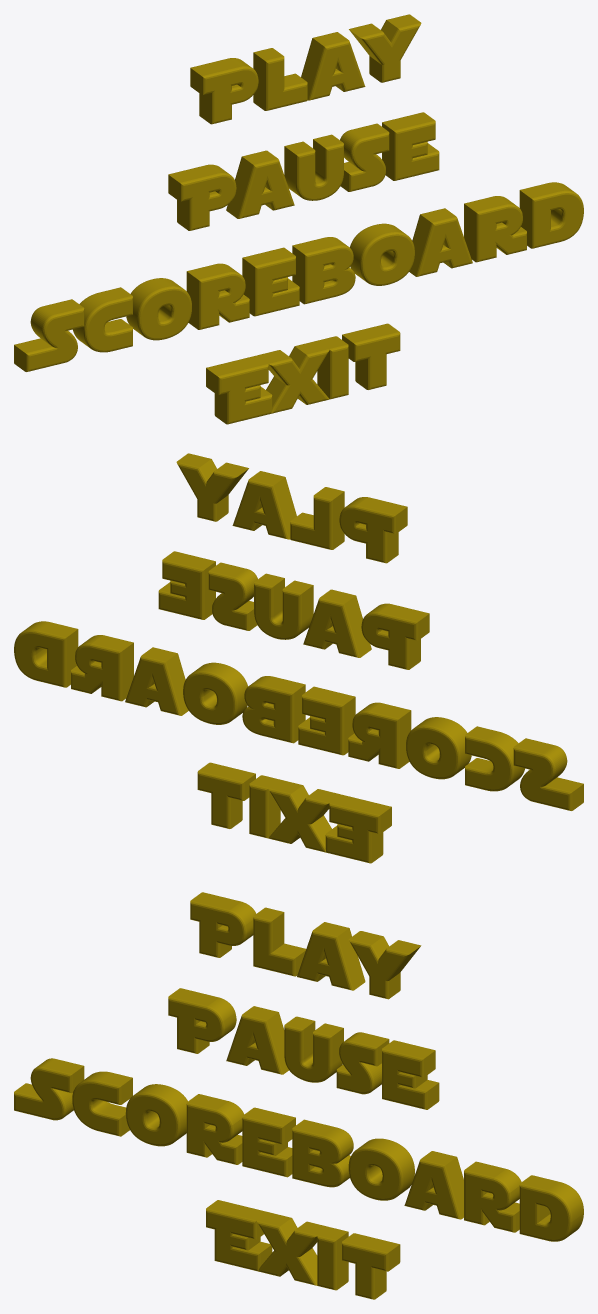
The model's file is text_Options.obj.
3 renders of one model, top to bottom at view 1: azimuth 30°, elevation 25°; view 2: azimuth 150°, elevation 25°; view 3: azimuth 330°, elevation 25°, orthographic.
Parts seen in each view (by area): view 1: Text.007_Mesh.001; view 2: Text.007_Mesh.001; view 3: Text.007_Mesh.001.
Part boxes in pixels (<box>): Text.007_Mesh.001: <box>14,14,583,424</box>; Text.007_Mesh.001: <box>14,453,583,863</box>; Text.007_Mesh.001: <box>14,892,583,1299</box>.
Bounding box in the file's own units: 4.18 × 2.54 × 0.1844.
